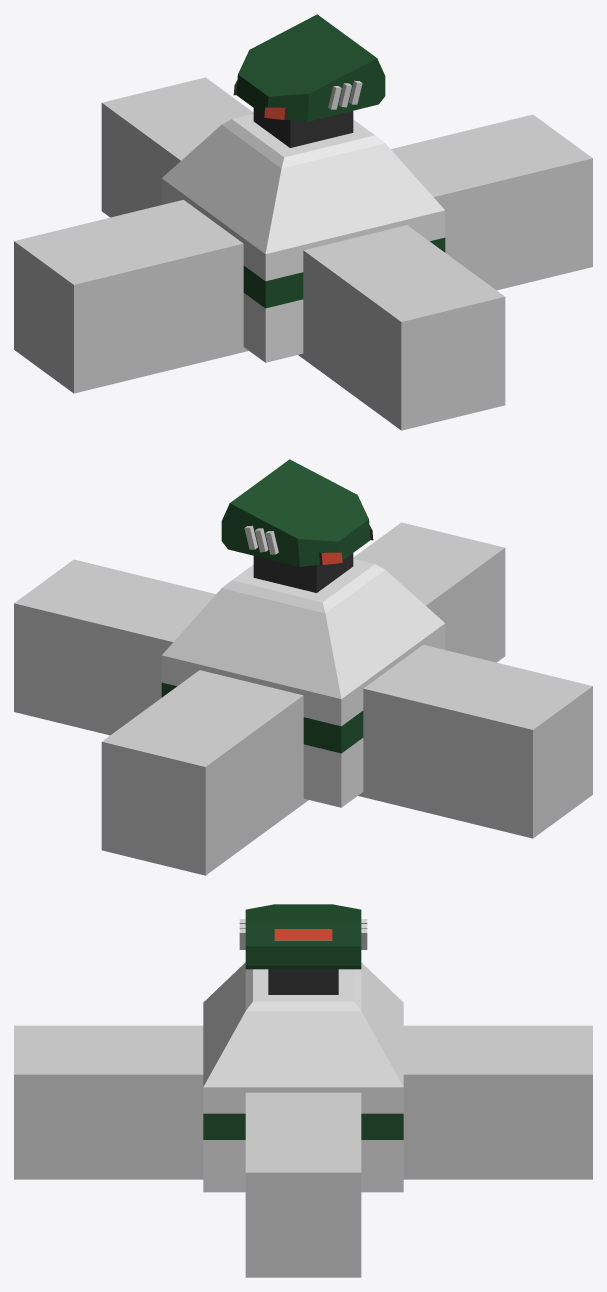
Rendered from Tower.fbx.
The picture shows the model from 3 angles, top to bottom: view 1: azimuth 30°, elevation 25°; view 2: azimuth 150°, elevation 25°; view 3: azimuth 270°, elevation 25°; orthographic projection. The views are drawn at different scales.
Parts seen in each view (by area): view 1: Cube, MainBuilding, Cube.007; view 2: Cube, MainBuilding, Cube.007; view 3: Cube.007, MainBuilding, Cube.
Part boxes in pixels (left/top/right/bottom): Cube: left=14, top=114, right=592, bottom=393; MainBuilding: left=161, top=14, right=445, bottom=362; Cube.007: left=101, top=77, right=505, bottom=430; Cube: left=14, top=559, right=592, bottom=838; MainBuilding: left=161, top=459, right=445, bottom=807; Cube.007: left=101, top=522, right=505, bottom=875; Cube.007: left=14, top=1025, right=592, bottom=1179; MainBuilding: left=203, top=904, right=403, bottom=1192; Cube: left=245, top=1092, right=361, bottom=1277.
Bounding box in the file's own units: 1000 × 481 × 1000.
